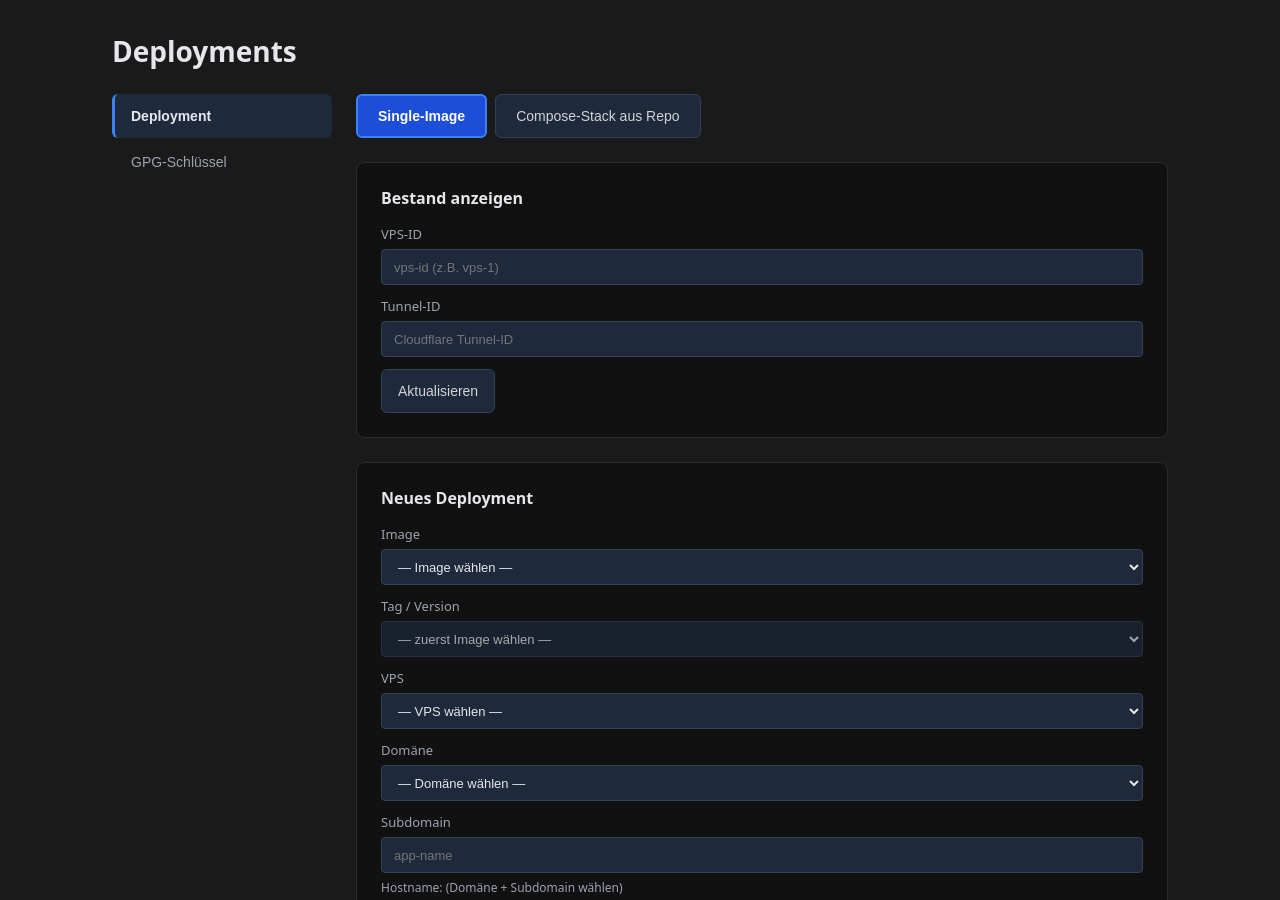
AC9 — Tunnel-Badge: Text je Zustand › shows "Tunnel fehlt ✗" when tunnelPresent=false
Select "vps-1" in the dropdown with id "deploy-vps-select" at (762, 711), box [381,693,1143,729]
Wait 100 ms
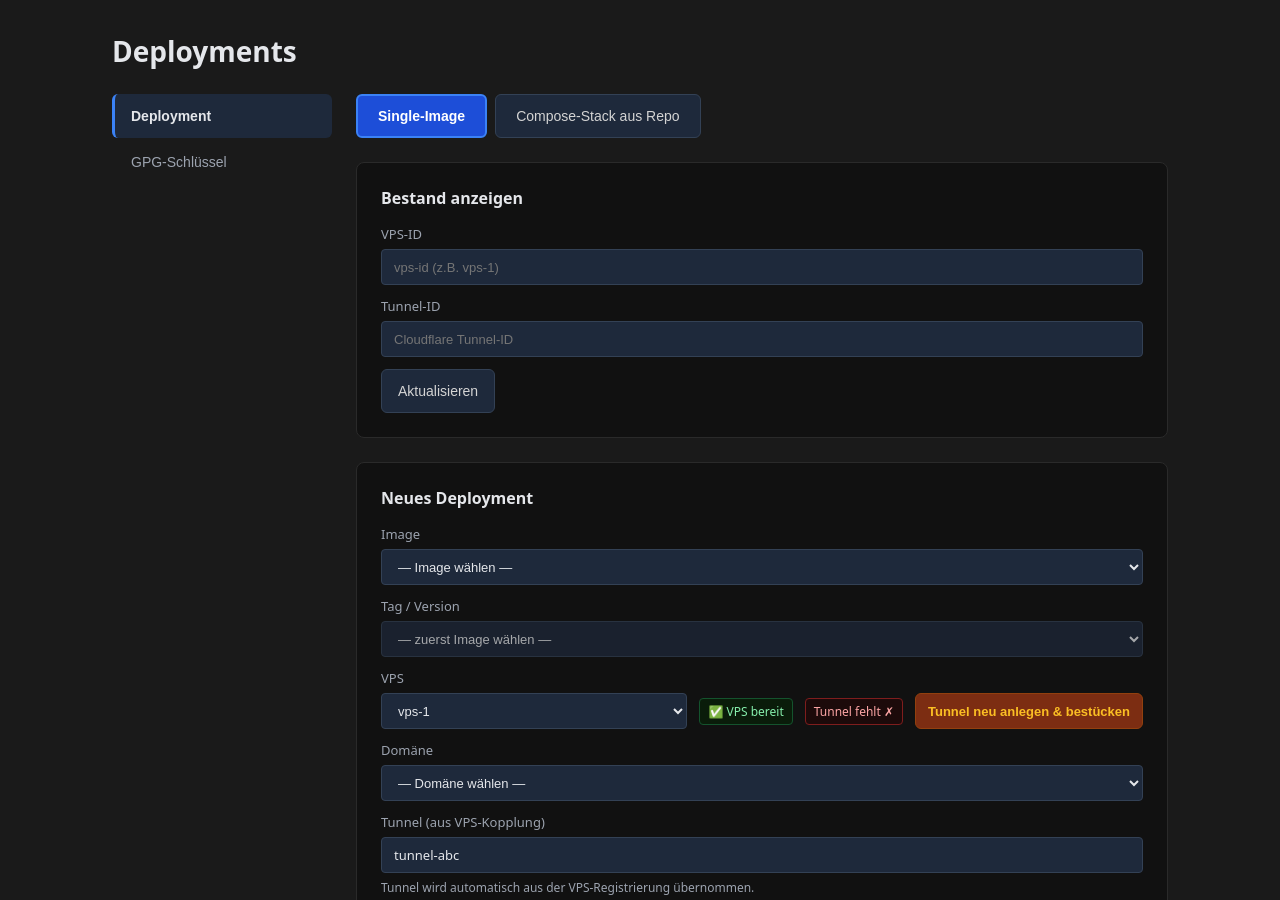
Now the message "Tunnel fehlt ✗" is shown, box [805,698,903,724]
